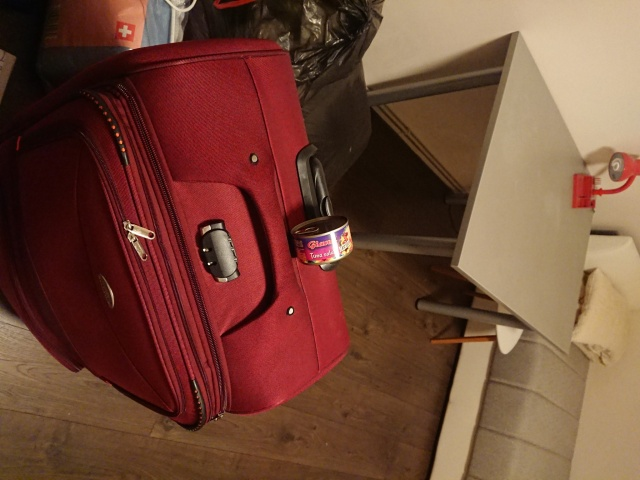Giana Tuna Salad Mexico 185g: (289, 214, 357, 267)
